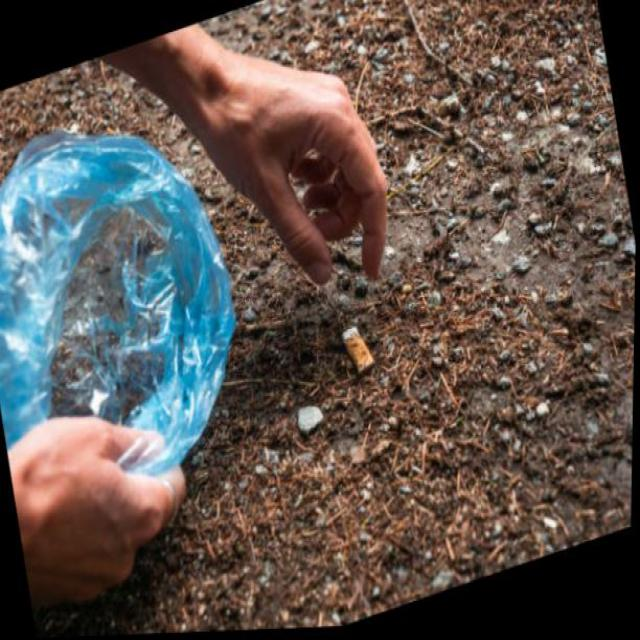cigarette: (341, 314, 381, 383)
